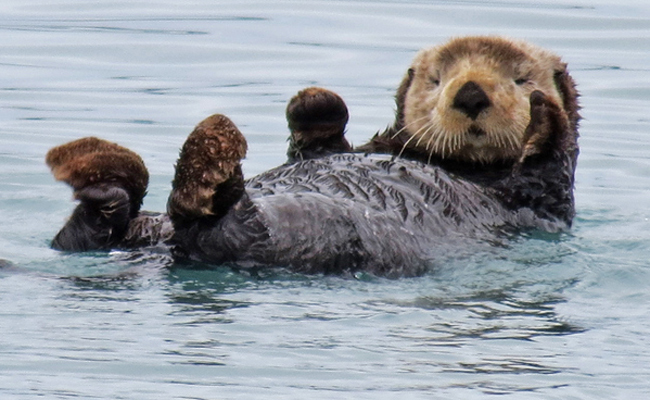otter: (22, 15, 629, 302)
